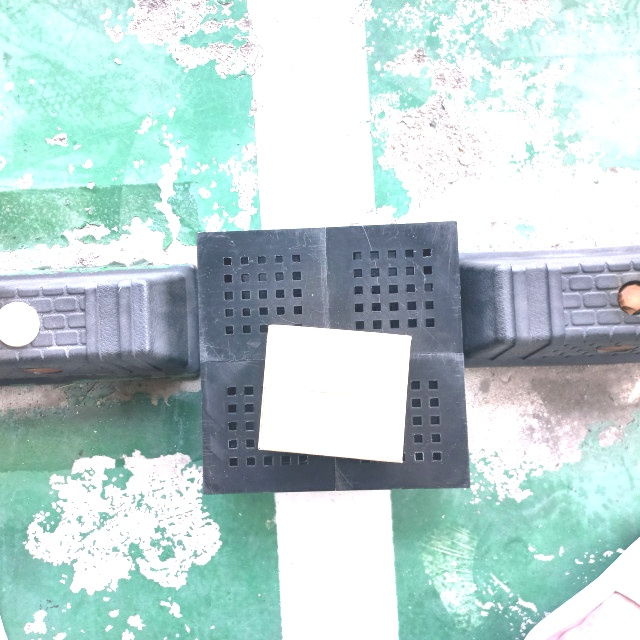box: (255, 322, 415, 464)
pallet: (194, 220, 468, 497)
